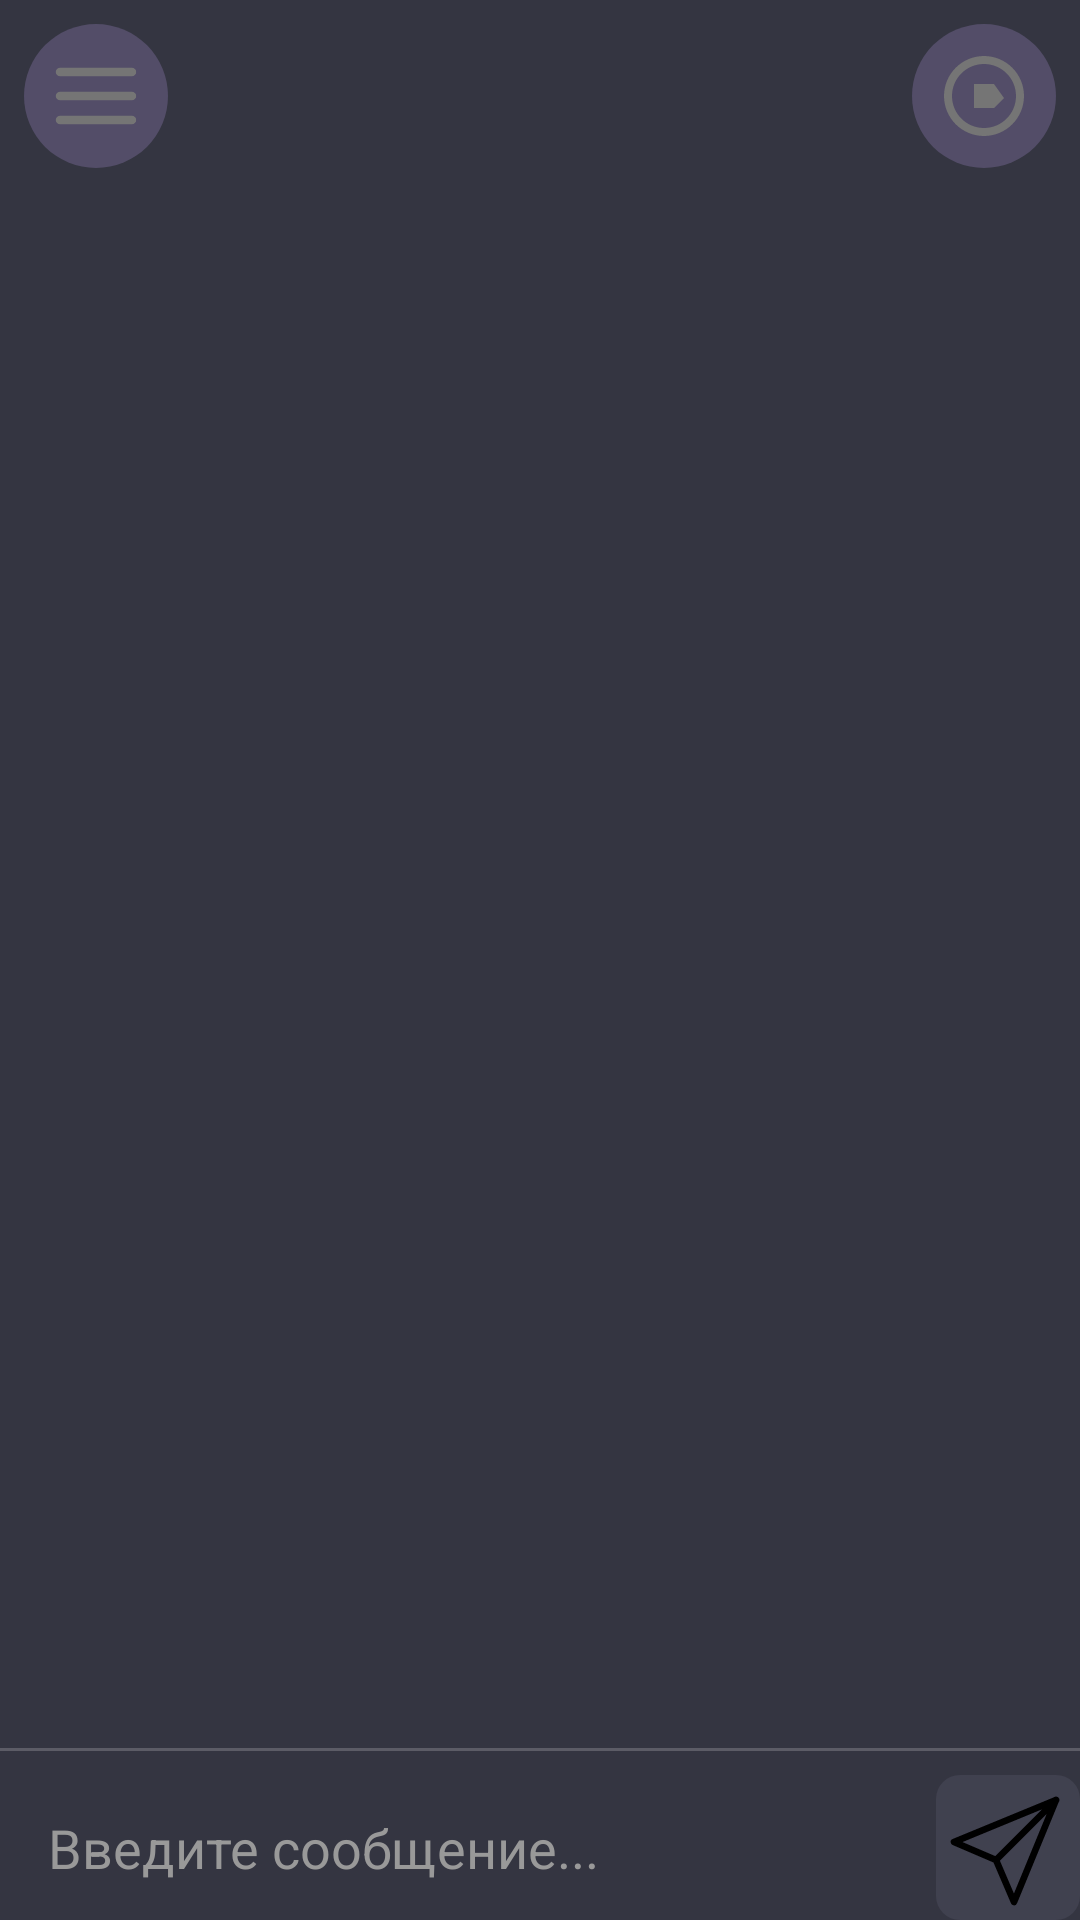

Named icons in this screenshot (1080*1920) and their bounding boxes, (x1, y1, x2, y2):
Открыть меню: (24, 24, 168, 168)
Отправить: (936, 1775, 1080, 1920)
